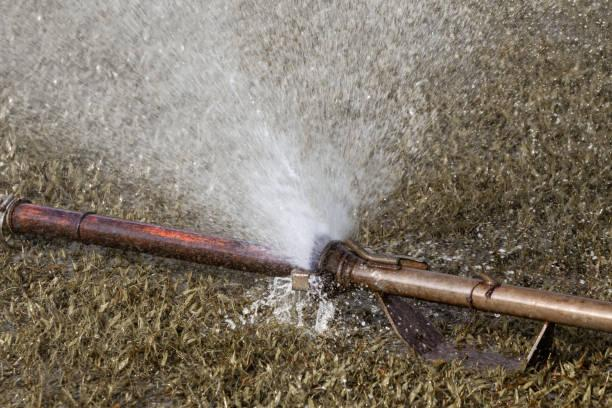pipe burst: (0, 1, 471, 281)
